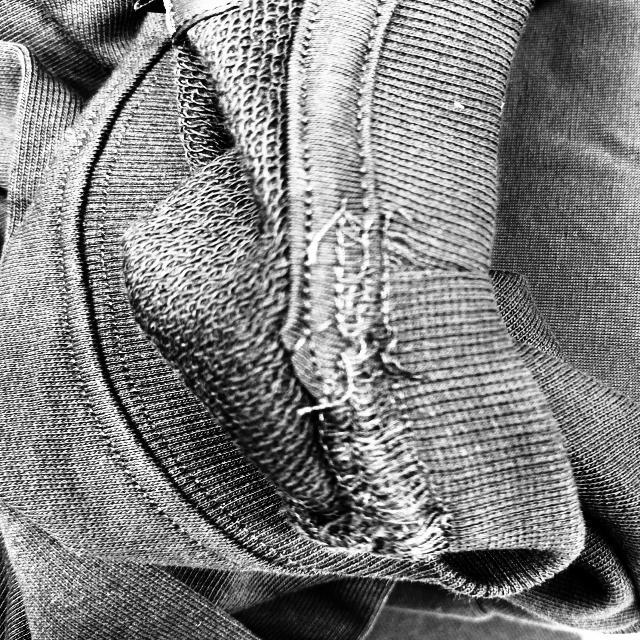Sewing_error: (301, 203, 399, 420)
